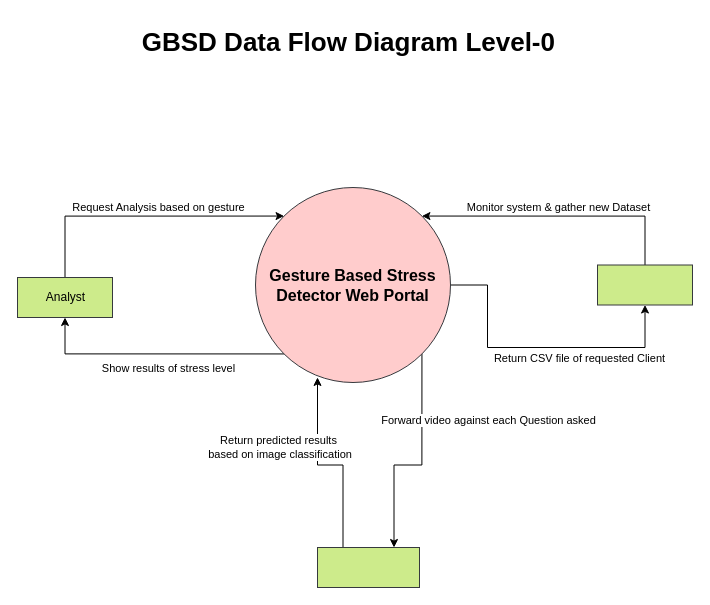
Image size: 710x605. Some labels were removed from this diagram. The shapes that lost their labels are listed below. From the top down, each one's centre as x and y in pixels, then its label:
pixel 644 284: Admin
pixel 368 567: Trainer Algorithm
